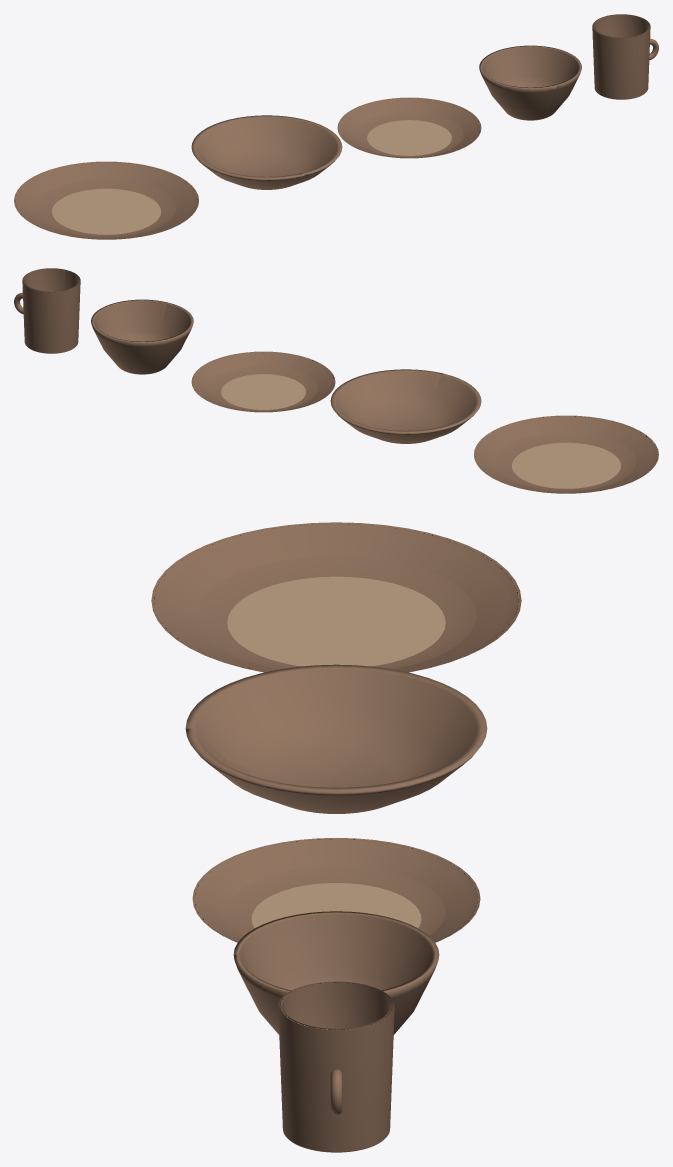
3 renders of one model, top to bottom at view 1: azimuth 30°, elevation 25°; view 2: azimuth 150°, elevation 25°; view 3: azimuth 270°, elevation 25°, orthographic. The views are drawn at different scales.
Size of the model in its own units: 1.06 by 0.1 by 0.27.
